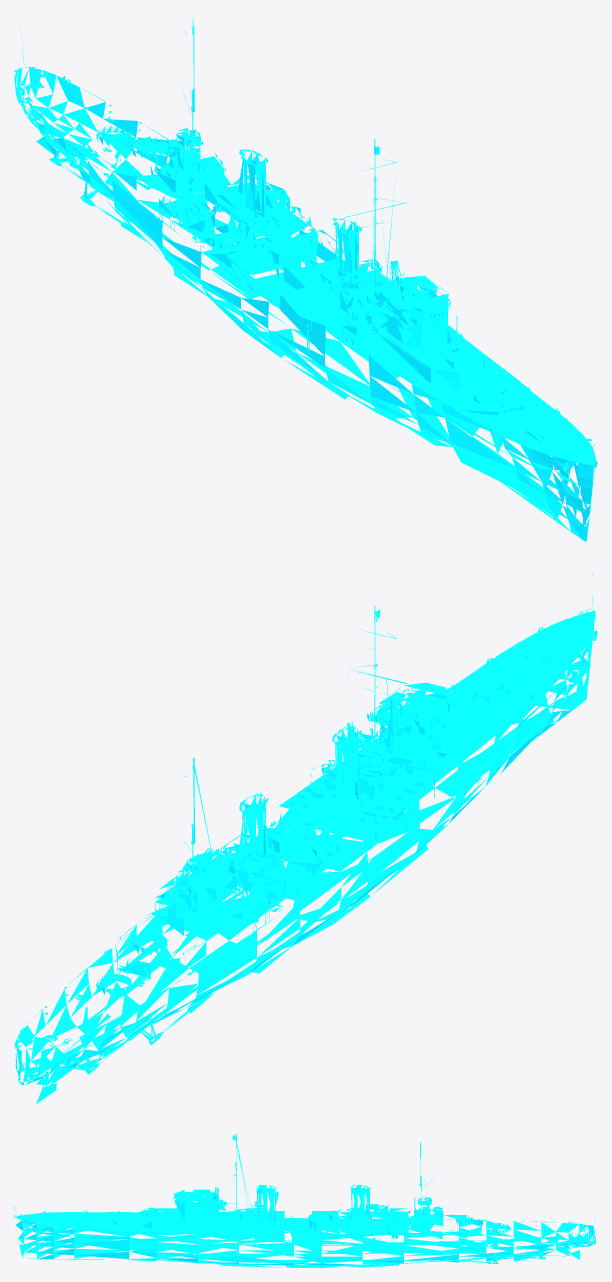
The model's file is Perth.glb.
3 renders of one model, top to bottom at view 1: azimuth 30°, elevation 25°; view 2: azimuth 150°, elevation 25°; view 3: azimuth 270°, elevation 25°, orthographic. The views are drawn at different scales.
Size of the model in its own units: 1.17 by 2.76 by 11.45.
